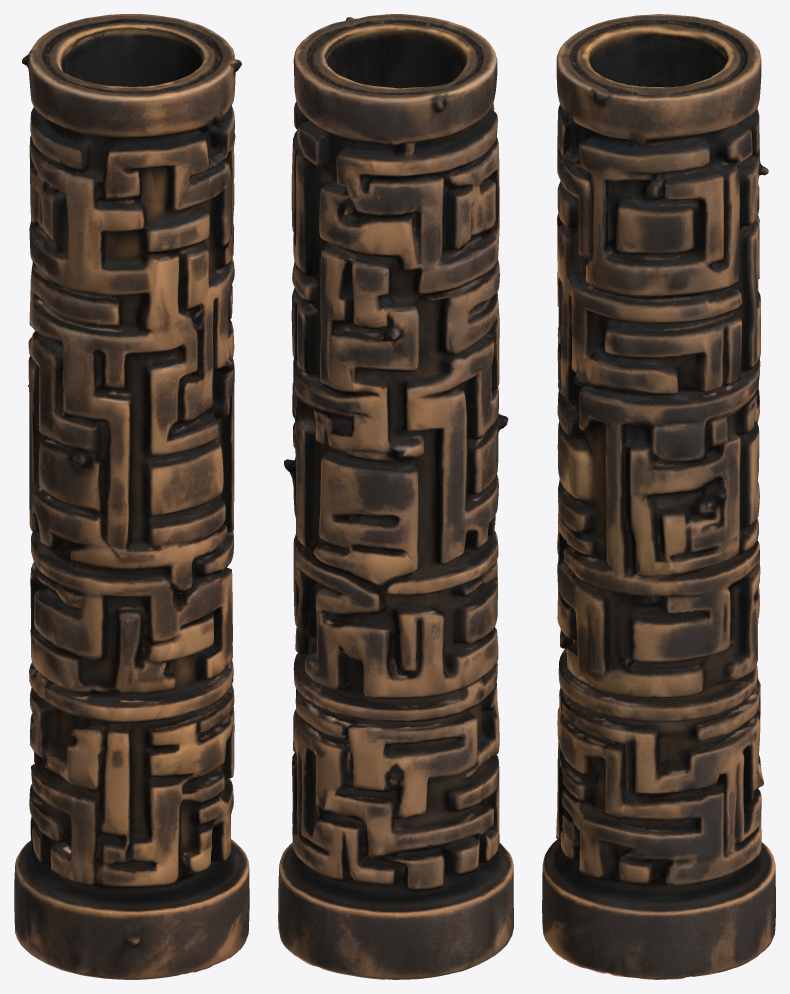
The picture shows the model from 3 angles, left to right: view 1: azimuth 30°, elevation 25°; view 2: azimuth 150°, elevation 25°; view 3: azimuth 270°, elevation 25°; orthographic projection.
Size of the model in its own units: 0.4868 by 2 by 0.4841.
Materials: 1 (1 with a texture image).
